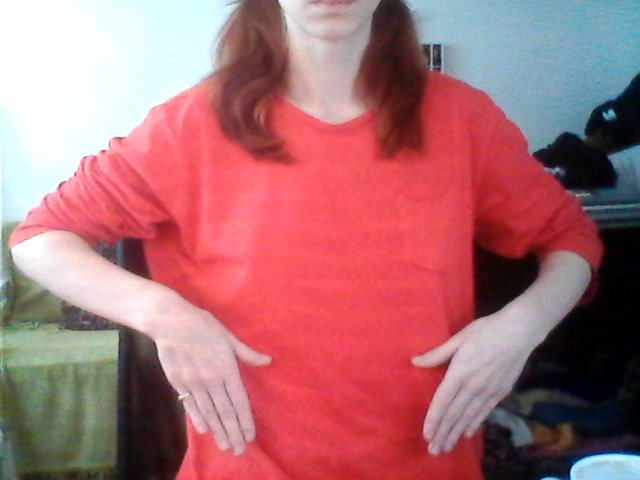zena: (151, 271, 535, 462)
